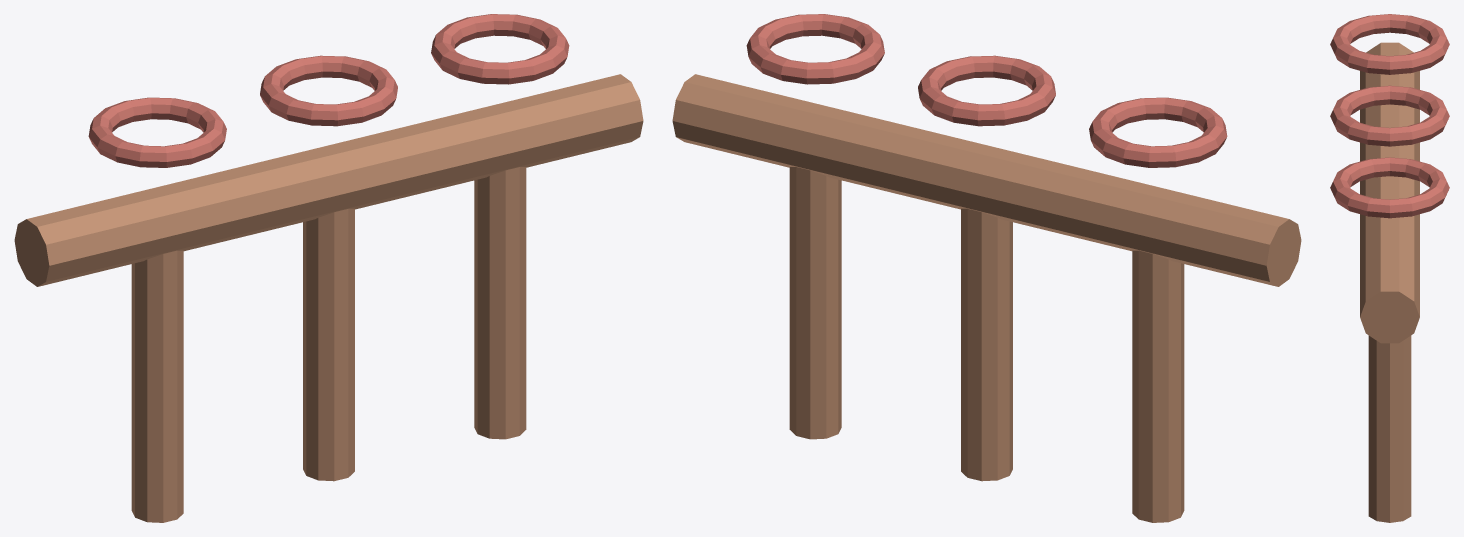
File: pipe_manifold_03.glb
The picture shows the model from 3 angles, left to right: view 1: azimuth 30°, elevation 25°; view 2: azimuth 150°, elevation 25°; view 3: azimuth 270°, elevation 25°; orthographic projection. The views are drawn at different scales.
Parts seen in each view (by area): view 1: main, branch2, branch0, branch1, valve0, valve2, valve1; view 2: main, branch2, branch0, branch1, valve0, valve2, valve1; view 3: main, branch2, valve1, valve2, valve0.
Part boxes in pixels (<box>): main: <box>14,74,643,286</box>; branch2: <box>474,167,526,439</box>; branch0: <box>131,250,183,522</box>; branch1: <box>303,208,354,481</box>; valve0: <box>88,97,226,167</box>; valve2: <box>431,14,569,84</box>; valve1: <box>260,55,397,126</box>; main: <box>672,74,1301,286</box>; branch2: <box>789,167,841,439</box>; branch0: <box>1132,250,1184,522</box>; branch1: <box>961,208,1012,481</box>; valve0: <box>1089,97,1227,167</box>; valve2: <box>746,14,884,84</box>; valve1: <box>918,55,1055,126</box>; main: <box>1360,42,1419,343</box>; branch2: <box>1368,335,1411,522</box>; valve1: <box>1330,85,1449,146</box>; valve2: <box>1330,157,1449,218</box>; valve0: <box>1330,14,1449,74</box>.
Bounding box in the file's own units: 1.18 × 0.74 × 0.24.
